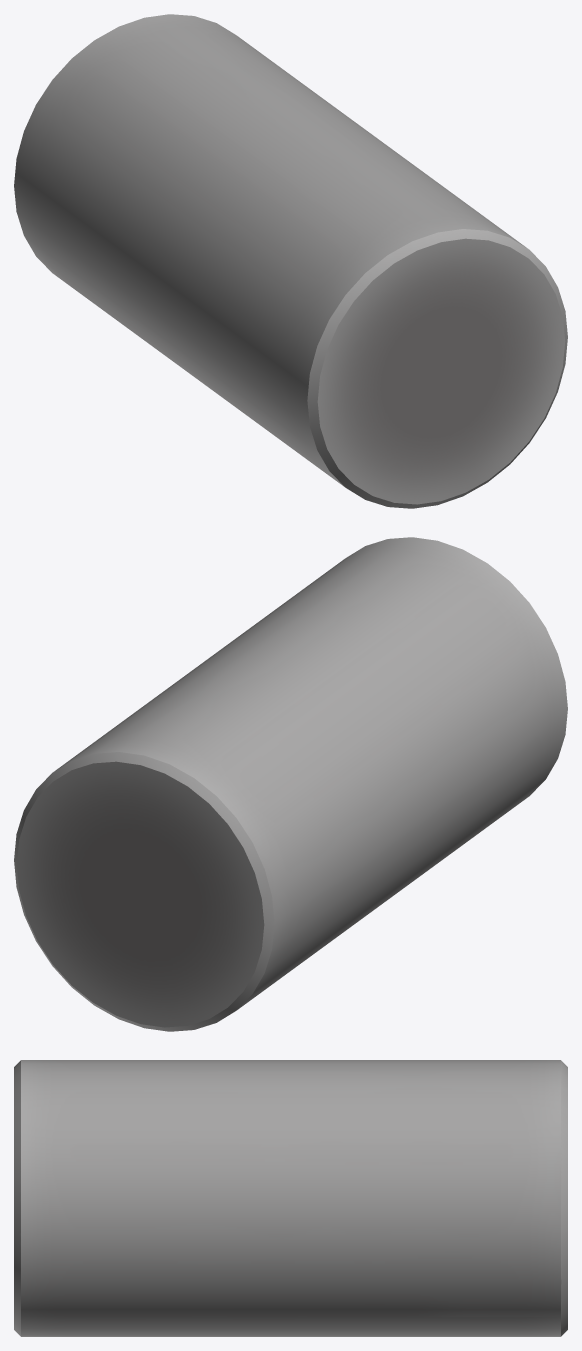
Rendered from pin4_textured.glb.
3 renders of one model, top to bottom at view 1: azimuth 30°, elevation 25°; view 2: azimuth 150°, elevation 25°; view 3: azimuth 270°, elevation 25°, orthographic. The views are drawn at different scales.
Visible parts, largest first — view 1: pin4; view 2: pin4; view 3: pin4.
Boxes of the visible parts, x1,y1,x2,y2 form: pin4: (14,14,567,508); pin4: (14,537,567,1031); pin4: (14,1060,567,1336).
Bounding box in the file's own units: 0.1 × 0.1 × 0.2.
1 material, 1 textured.
